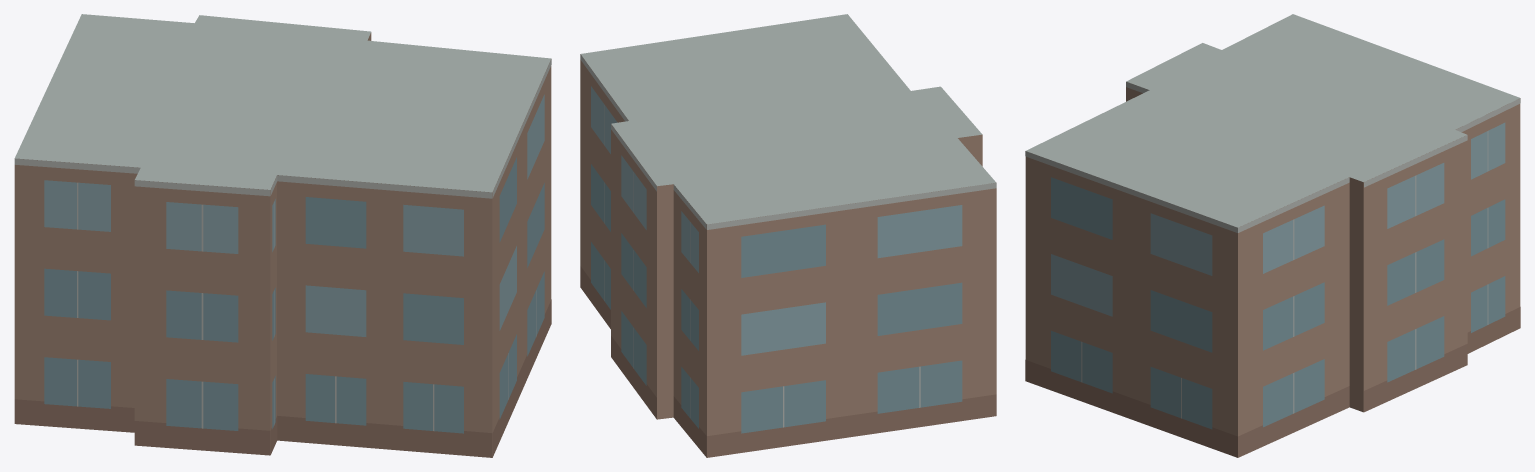
File: survey-upis-32777065.glb
3 renders of one model, left to right at view 1: azimuth 30°, elevation 25°; view 2: azimuth 150°, elevation 25°; view 3: azimuth 270°, elevation 25°, orthographic. The views are drawn at different scales.
Visible parts, largest first — view 1: survey-upis-32777065.tmp; view 2: survey-upis-32777065.tmp; view 3: survey-upis-32777065.tmp.
Boxes of the visible parts, x1,y1,x2,y2 form: survey-upis-32777065.tmp: [14, 14, 551, 457]; survey-upis-32777065.tmp: [580, 14, 996, 457]; survey-upis-32777065.tmp: [1025, 14, 1520, 457].
Bounding box in the file's own units: 20.32 × 10.2 × 19.88.
